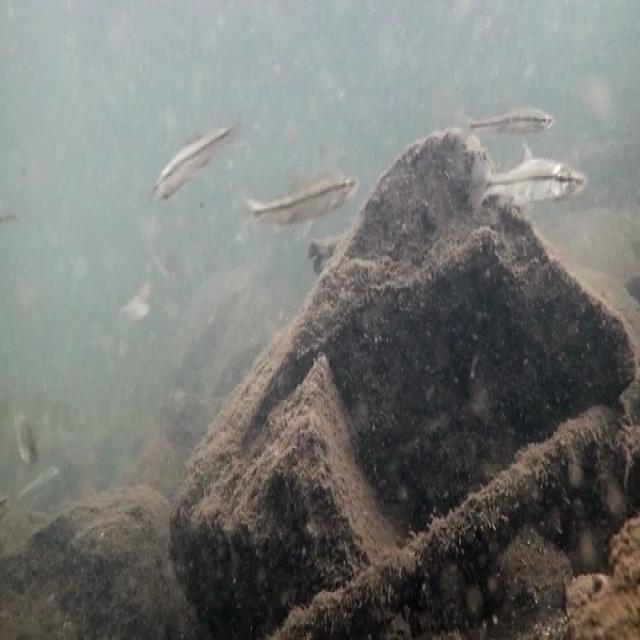Cakil Baligi: (469, 149, 596, 225), (151, 117, 242, 216), (467, 104, 562, 140)
